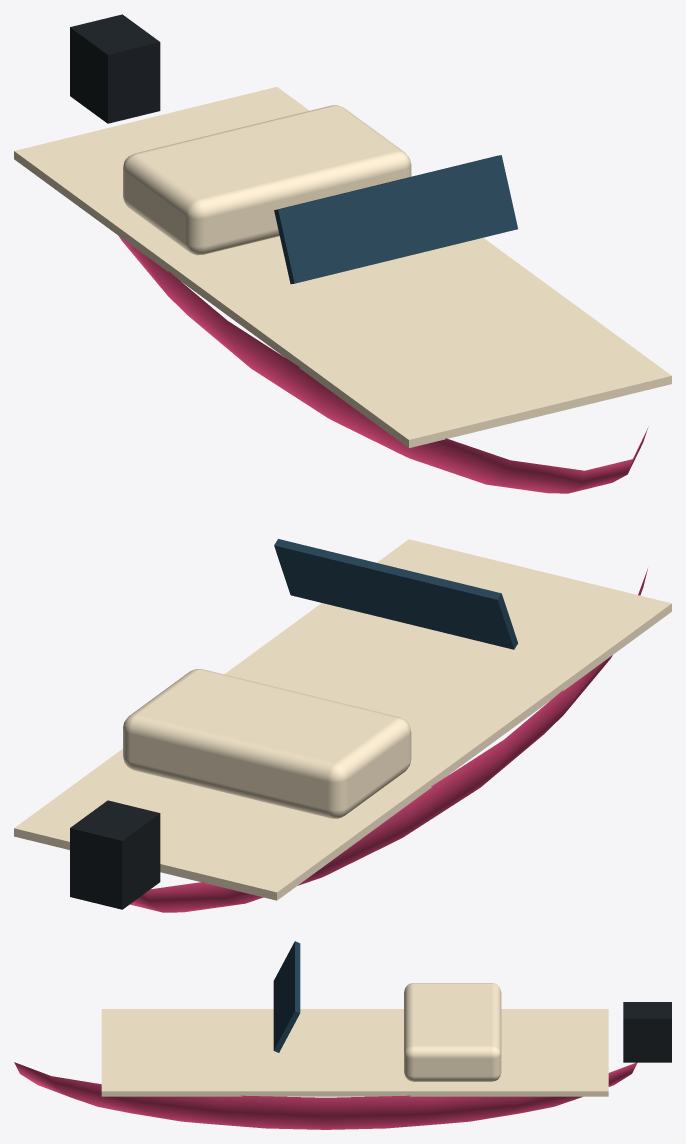
Rendered from runabout.glb.
3 renders of one model, top to bottom at view 1: azimuth 30°, elevation 25°; view 2: azimuth 150°, elevation 25°; view 3: azimuth 270°, elevation 25°, orthographic. The views are drawn at different scales.
Parts seen in each view (by area): view 1: runabout deck, runabout glass, runabout hull, runabout dark; view 2: runabout deck, runabout glass, runabout hull, runabout dark; view 3: runabout deck, runabout hull, runabout dark, runabout glass.
Part boxes in pixels (bbox=[...]): runabout deck: bbox=[14, 87, 671, 447]; runabout glass: bbox=[274, 155, 517, 284]; runabout hull: bbox=[119, 236, 648, 493]; runabout dark: bbox=[70, 14, 160, 123]; runabout deck: bbox=[14, 539, 671, 900]; runabout glass: bbox=[274, 539, 517, 649]; runabout hull: bbox=[130, 568, 647, 912]; runabout dark: bbox=[70, 800, 160, 909]; runabout deck: bbox=[101, 983, 608, 1096]; runabout hull: bbox=[14, 1062, 637, 1129]; runabout dark: bbox=[623, 1002, 671, 1062]; runabout glass: bbox=[273, 941, 300, 1052].
Bounding box in the file's own units: 2.1 × 1.59 × 6.75.
